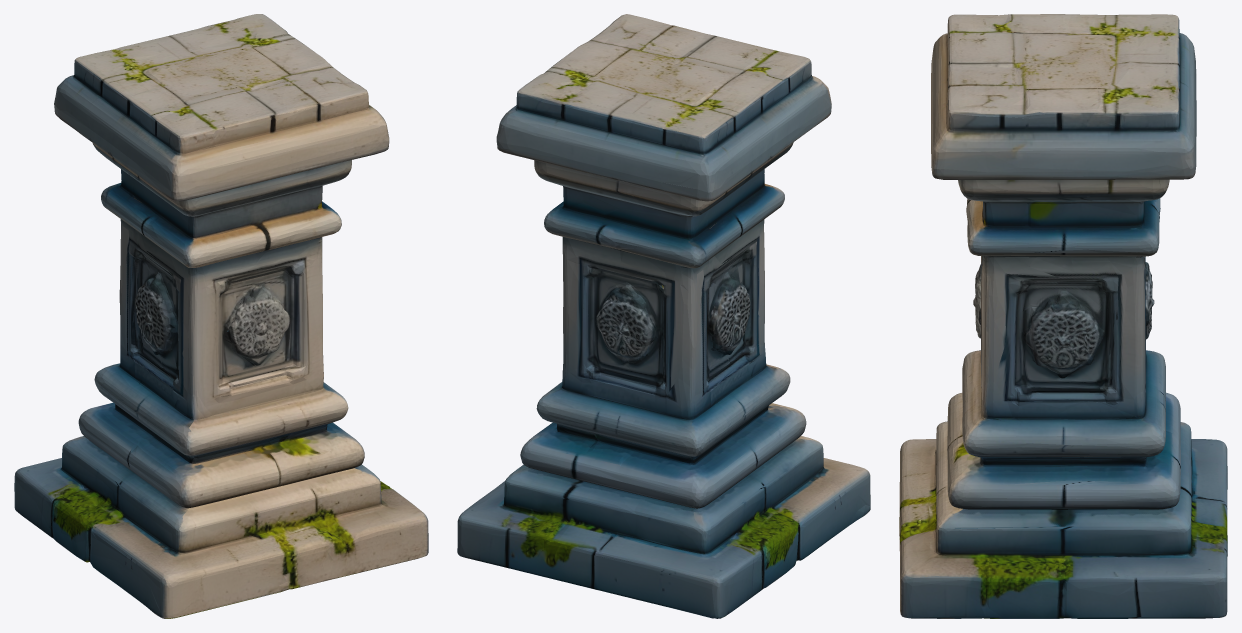
File: kadamba-carved-granite-pillar-optimized (1).glb
The picture shows the model from 3 angles, left to right: view 1: azimuth 30°, elevation 25°; view 2: azimuth 150°, elevation 25°; view 3: azimuth 270°, elevation 25°; orthographic projection. The views are drawn at different scales.
Parts seen in each view (by area): view 1: 1821a1e3-5ced-4f55-b94a-f499f495e8d4_texturing; view 2: 1821a1e3-5ced-4f55-b94a-f499f495e8d4_texturing; view 3: 1821a1e3-5ced-4f55-b94a-f499f495e8d4_texturing.
Part boxes in pixels (left/top/right/bottom): 1821a1e3-5ced-4f55-b94a-f499f495e8d4_texturing: left=14, top=14, right=428, bottom=618; 1821a1e3-5ced-4f55-b94a-f499f495e8d4_texturing: left=457, top=14, right=870, bottom=618; 1821a1e3-5ced-4f55-b94a-f499f495e8d4_texturing: left=899, top=14, right=1227, bottom=618.
Size of the model in its own units: 2.15 by 3.5 by 2.13.
1 material, 1 textured.
